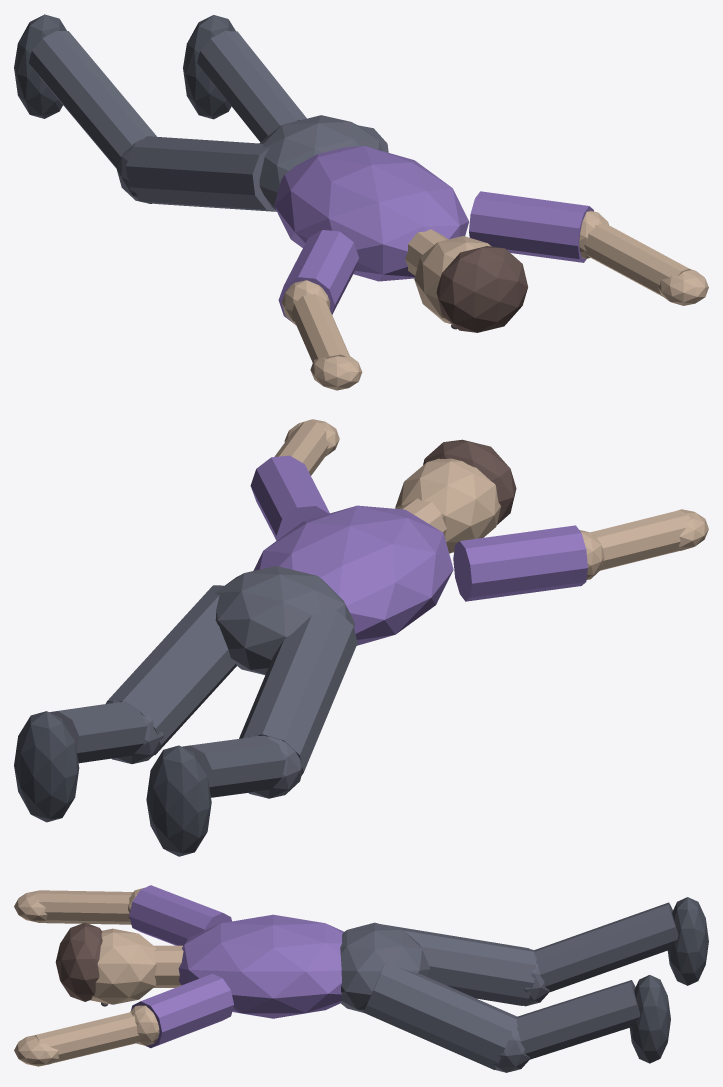
The picture shows the model from 3 angles, top to bottom: view 1: azimuth 30°, elevation 25°; view 2: azimuth 150°, elevation 25°; view 3: azimuth 270°, elevation 25°; orthographic projection. The views are drawn at different scales.
Parts seen in each view (by area): view 1: world; view 2: world; view 3: world.
Boxes of the visible parts, x1=… form: world: x1=14, y1=14, x2=708, y2=390; world: x1=14, y1=419, x2=708, y2=856; world: x1=14, y1=885, x2=708, y2=1072.
Bounding box in the file's own units: 1.17 × 0.3942 × 2.12.
